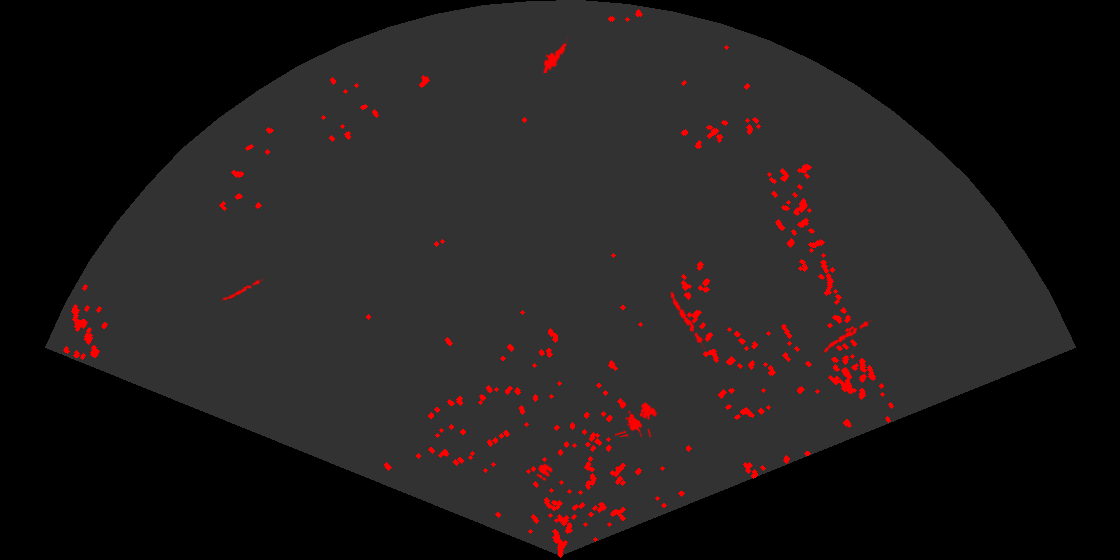ball: (535, 462, 554, 482)
cage: (615, 401, 659, 437)
chain: (669, 290, 707, 349), (817, 318, 872, 355), (220, 276, 263, 303)
frogman: (541, 37, 569, 73)
